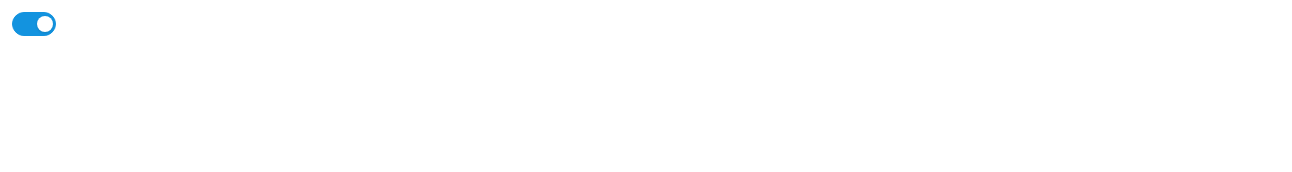
Test case: AgentAccessSwitch › reverts and shows ErrorNotice on a network failure
Click the switch named "AgentHub Access". click: (34, 24)
box: [12,12,56,36]
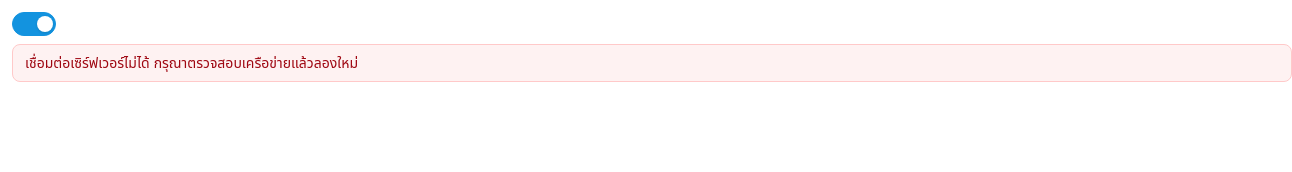
Check: the message "เชื่อมต่อเซิร์ฟเวอร์ไม่ได้ กรุณาตรวจสอบเครือข่ายแล้วลองใหม่" is shown, box [12,44,1291,82]
